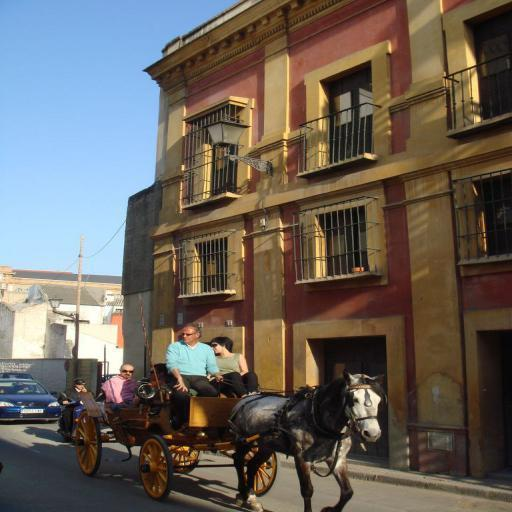horse: (228, 368, 386, 512)
